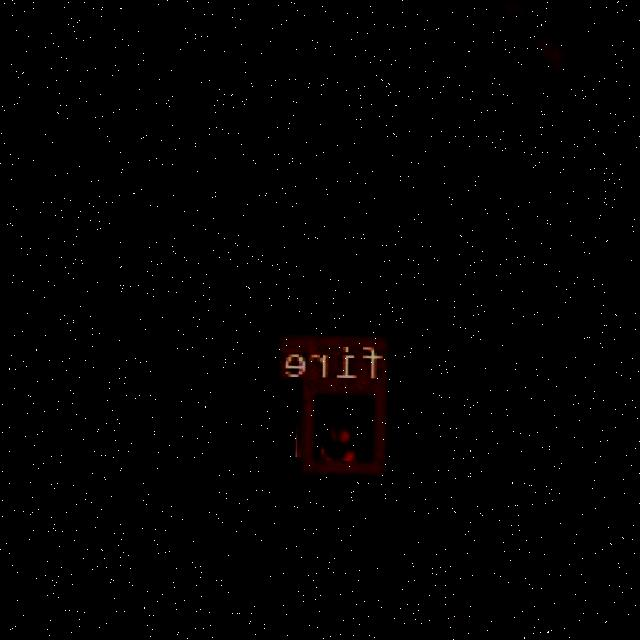fire: (303, 378, 388, 472)
